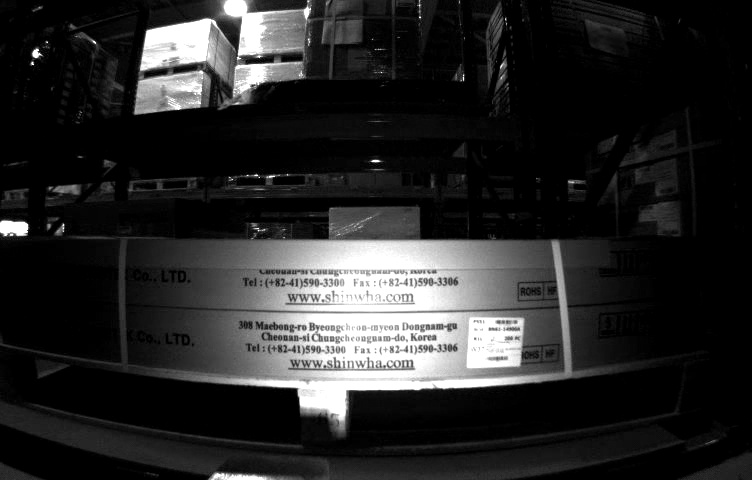True Barcode: (466, 316, 525, 372)
